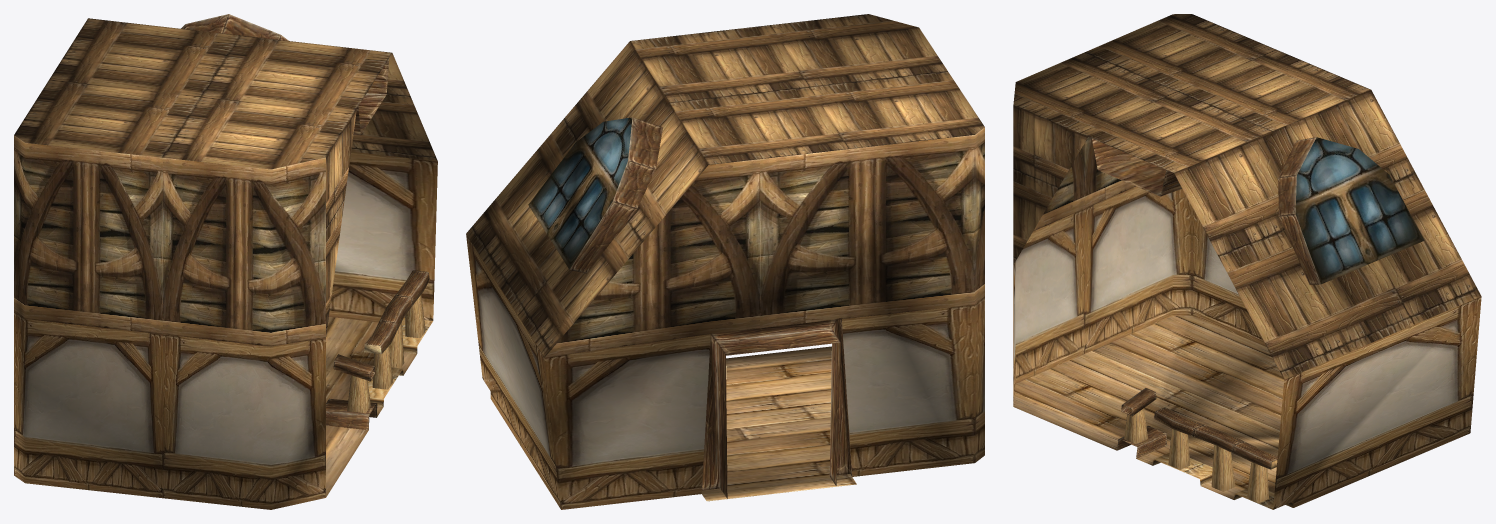
The model's file is stormwind_251.fbx.
3 views of the same model, side by side, from view 1: azimuth 30°, elevation 25°; view 2: azimuth 150°, elevation 25°; view 3: azimuth 270°, elevation 25° (orthographic). The views are drawn at different scales.
Visible parts, largest first — view 1: stormwind_251_48, stormwind_251_49, stormwind_251_55, stormwind_251_53, stormwind_251_51, stormwind_251_54; view 2: stormwind_251_49, stormwind_251_55, stormwind_251_48, stormwind_251_51, stormwind_251_53, stormwind_251_84; view 3: stormwind_251_55, stormwind_251_48, stormwind_251_51, stormwind_251_84, stormwind_251_53, stormwind_251_49, stormwind_251_54.
Boxes of the visible parts, x1,y1,x2,y2 form: stormwind_251_48: [14, 151, 437, 509]; stormwind_251_49: [14, 135, 325, 346]; stormwind_251_55: [14, 18, 437, 336]; stormwind_251_53: [181, 14, 432, 430]; stormwind_251_51: [326, 317, 416, 497]; stormwind_251_54: [347, 295, 425, 413]; stormwind_251_49: [545, 127, 984, 357]; stormwind_251_55: [466, 14, 984, 357]; stormwind_251_48: [466, 234, 984, 509]; stormwind_251_51: [701, 346, 856, 501]; stormwind_251_53: [569, 117, 852, 498]; stormwind_251_84: [528, 117, 632, 269]; stormwind_251_55: [1013, 14, 1481, 379]; stormwind_251_48: [1013, 186, 1481, 509]; stormwind_251_51: [1013, 315, 1284, 499]; stormwind_251_84: [1295, 137, 1424, 284]; stormwind_251_53: [1092, 137, 1320, 509]; stormwind_251_49: [1033, 137, 1135, 230]; stormwind_251_54: [1124, 407, 1277, 502].
Bounding box in the file's own units: 12.39 × 8.49 × 11.92.
